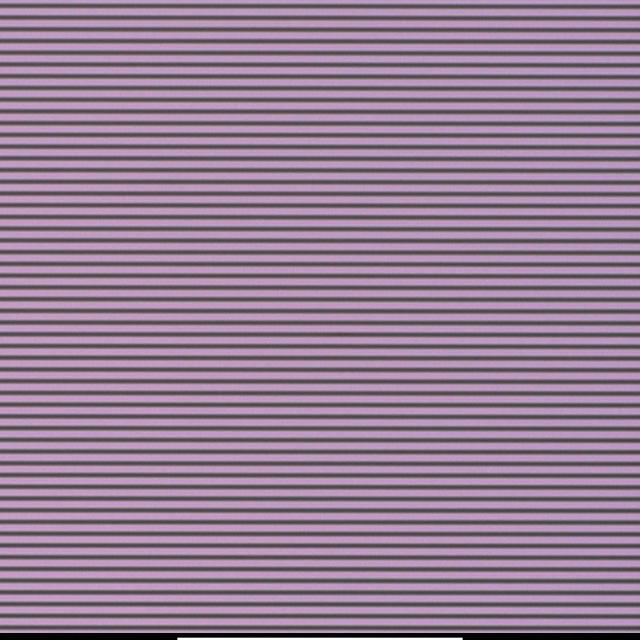03_intrusion: (290, 304, 300, 318)
